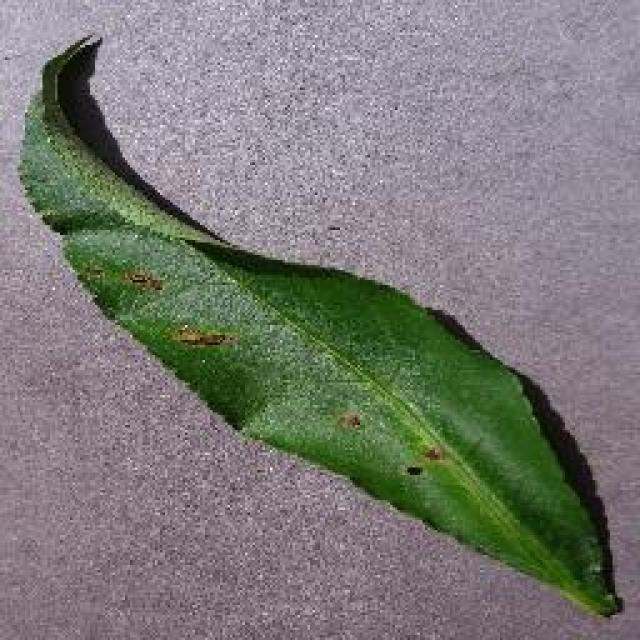Pea_Bacterial_spot: (332, 392, 460, 497), (120, 255, 235, 371)
